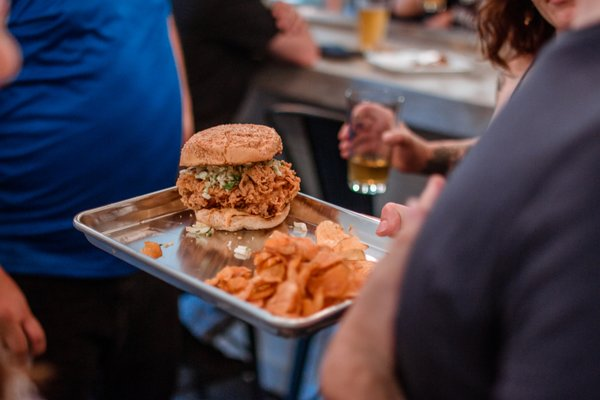soup: (177, 122, 297, 231)
